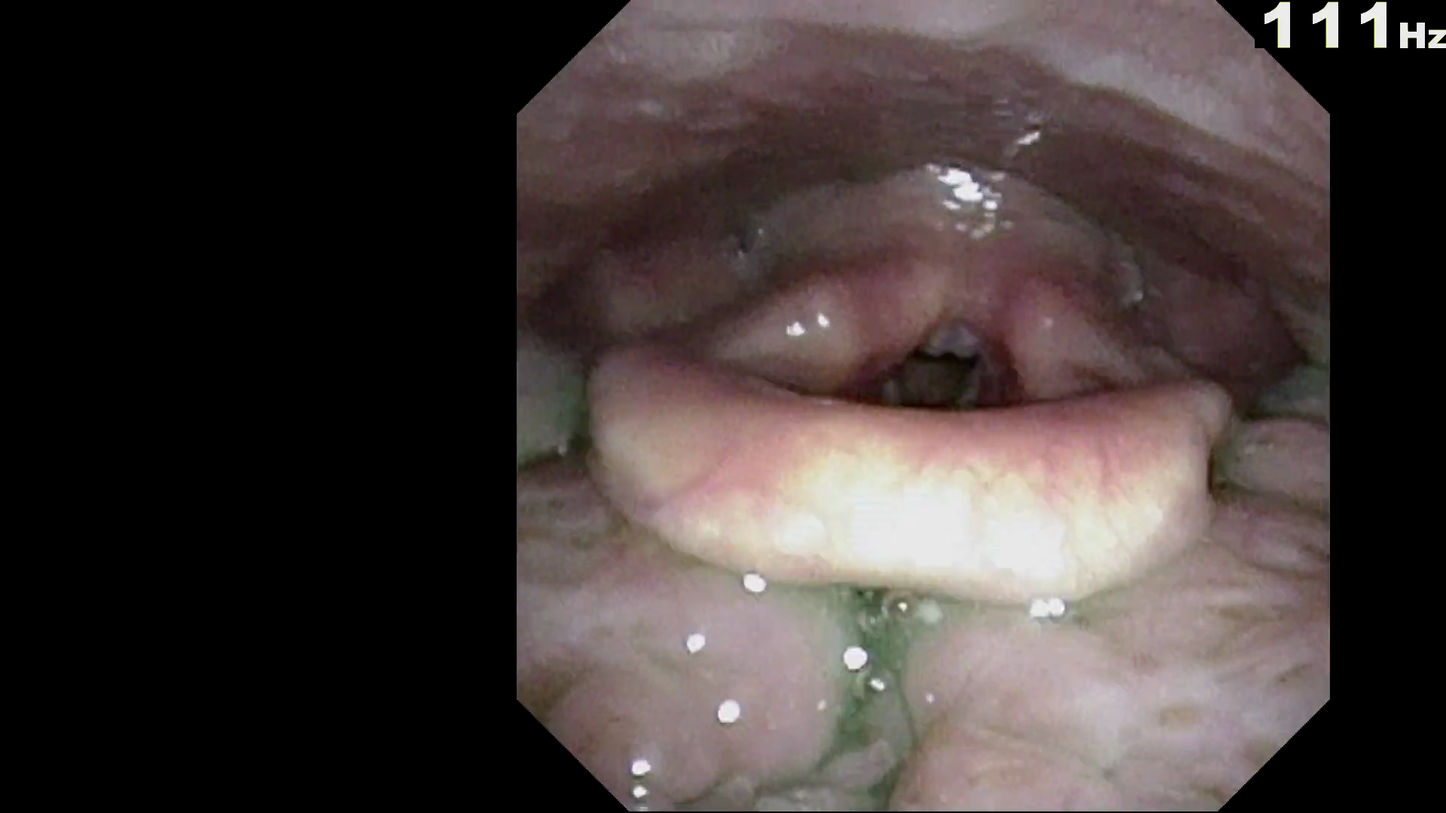epiglottis: (551, 304, 1284, 573)
